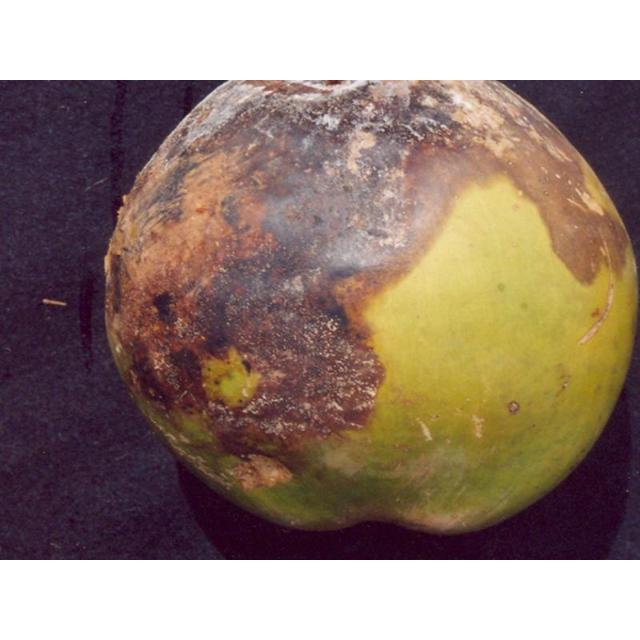damaged: (105, 80, 636, 532)
